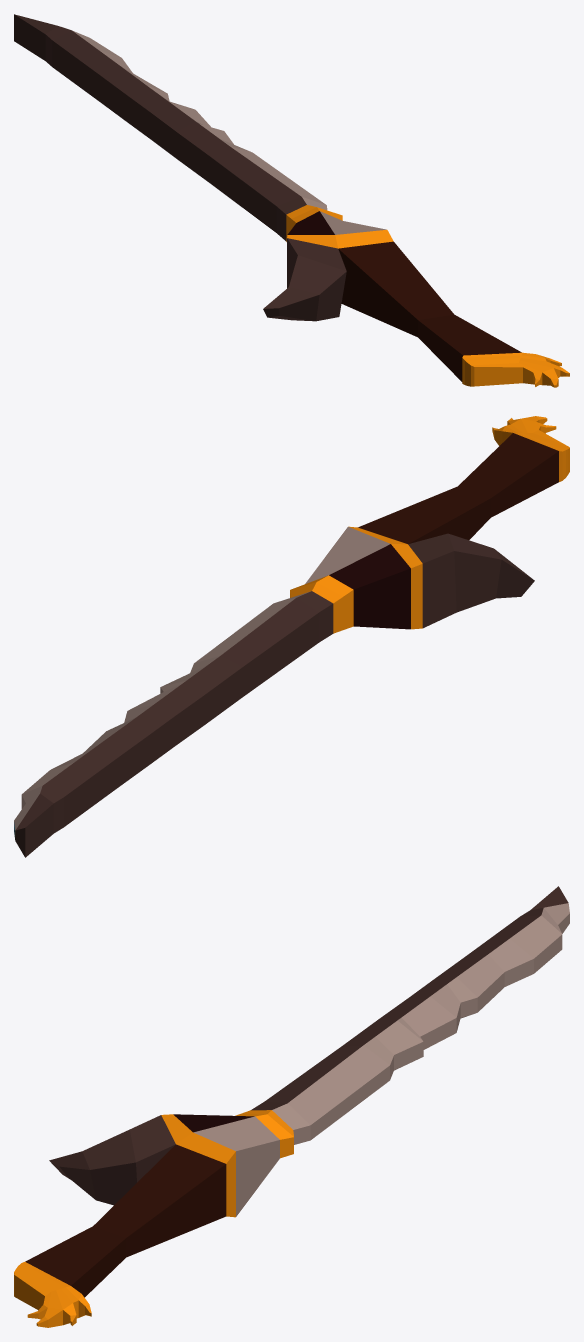
File: 13-Sword.fbx
3 renders of one model, top to bottom at view 1: azimuth 30°, elevation 25°; view 2: azimuth 150°, elevation 25°; view 3: azimuth 330°, elevation 25°, orthographic. The views are drawn at different scales.
Visible parts, largest first — view 1: Sword13; view 2: Sword13; view 3: Sword13.
Part boxes in pixels (x1=…): Sword13: x1=14, y1=14, x2=569, y2=387; Sword13: x1=14, y1=416, x2=569, y2=857; Sword13: x1=14, y1=886, x2=569, y2=1327.
Bounding box in the file's own units: 102 × 37.01 × 527.
